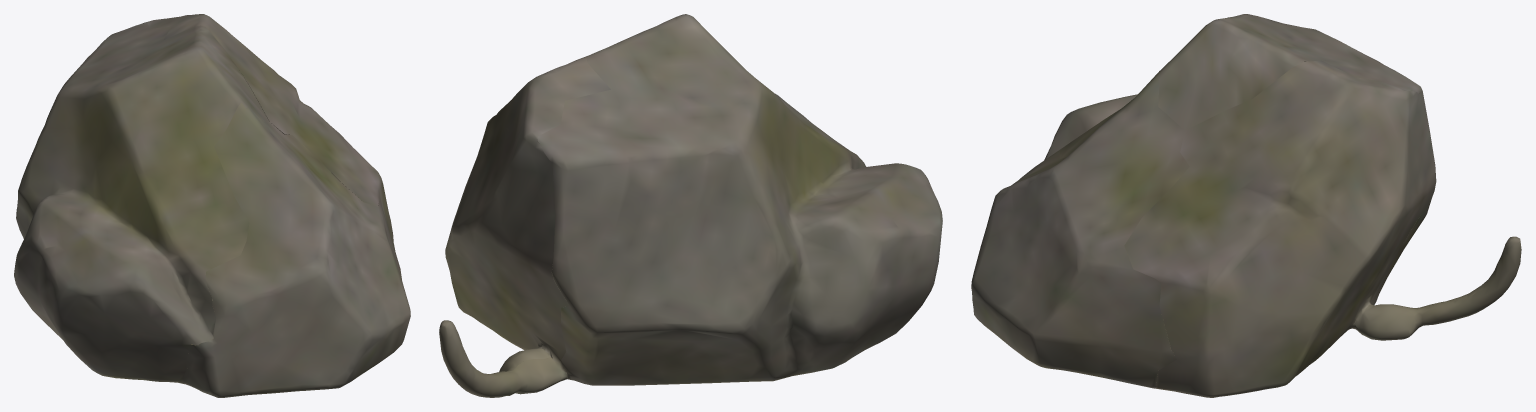
The model's file is rock_formation_01_lod1.glb.
3 views of the same model, side by side, from view 1: azimuth 30°, elevation 25°; view 2: azimuth 150°, elevation 25°; view 3: azimuth 270°, elevation 25° (orthographic). The views are drawn at different scales.
Visible parts, largest first — view 1: candidate_017_lod1; view 2: candidate_017_lod1; view 3: candidate_017_lod1.
Boxes of the visible parts, box(x1,y1,x2,y2) form: candidate_017_lod1: box(14, 14, 410, 397); candidate_017_lod1: box(439, 14, 942, 397); candidate_017_lod1: box(971, 14, 1521, 397).
Size of the model in its own units: 0.1192 by 0.0835 by 0.1456.
Materials: 1 (1 with a texture image).
